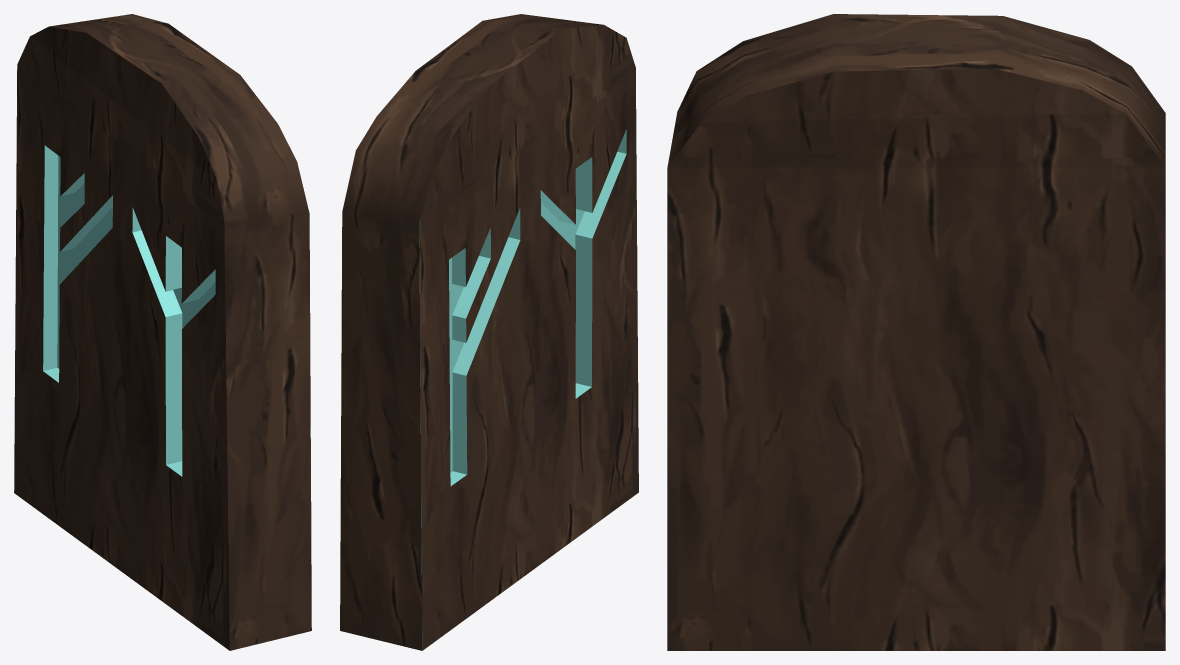
File: Door 10.fbx
The picture shows the model from 3 angles, left to right: view 1: azimuth 30°, elevation 25°; view 2: azimuth 150°, elevation 25°; view 3: azimuth 270°, elevation 25°; orthographic projection. The views are drawn at different scales.
Parts seen in each view (by area): view 1: Door_10; view 2: Door_10; view 3: Door_10.
Part boxes in pixels (x1,y1,x2,y2): Door_10: [14, 14, 311, 650]; Door_10: [340, 14, 638, 650]; Door_10: [667, 14, 1165, 650].
Bounding box in the file's own units: 0.7182 × 4.18 × 3.18.
